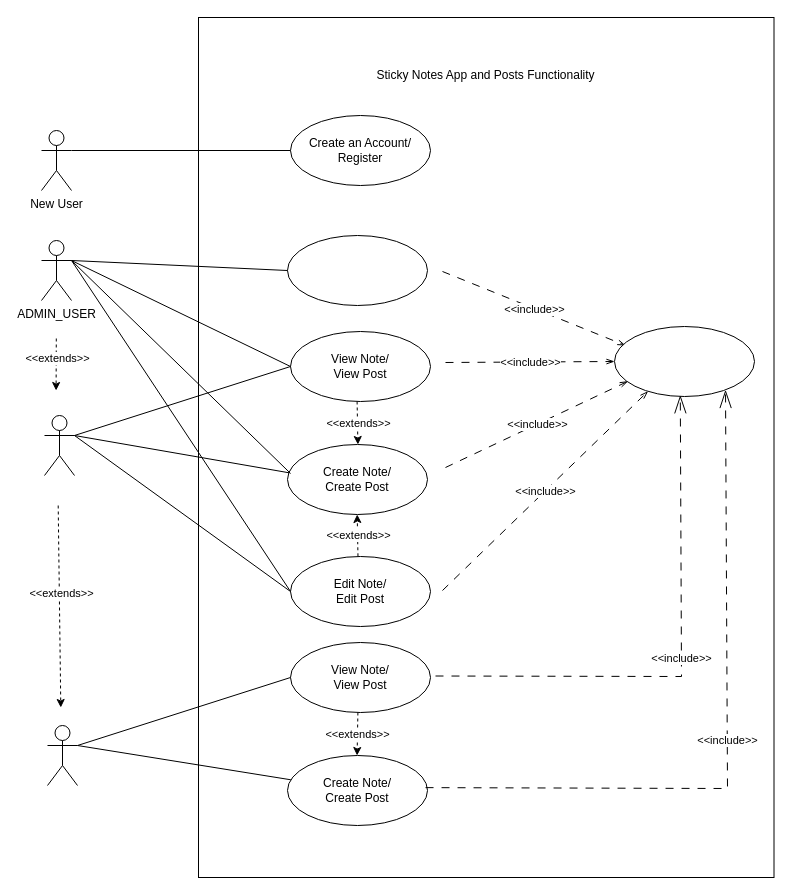
Image size: 792x895. Some labels were removed from this diagram. The shapes that lost their labels are listed below. From the top down, each one's centre as x and y in pixels, then its label:
At (x=357, y=270): "Delete Note/ Delete Post".
At (x=684, y=361): "Login".
At (x=59, y=445): "Main_user".
At (x=62, y=755): "Viewing_u ser".
